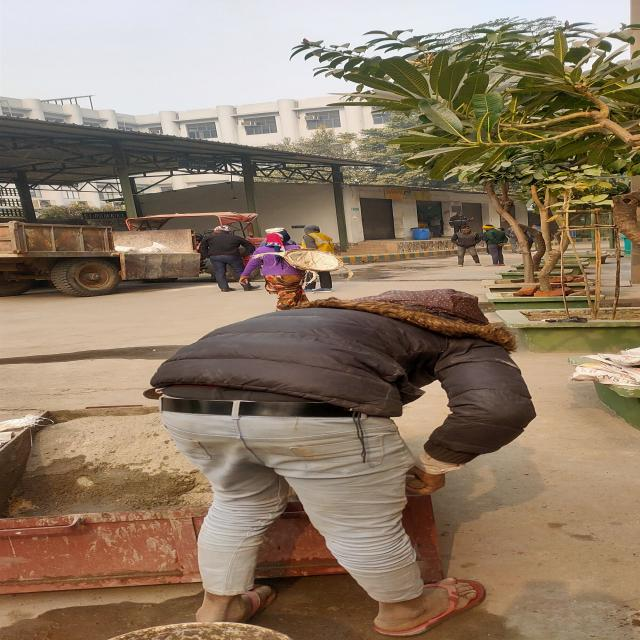unsafe: (155, 290, 544, 634), (246, 229, 308, 305), (196, 225, 254, 292), (453, 226, 483, 267), (483, 224, 510, 267)
